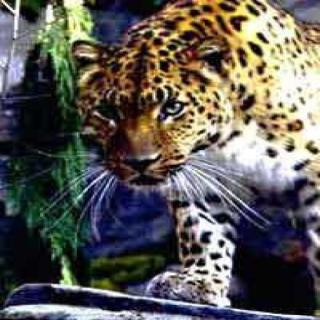Leopard: (61, 0, 320, 283)
